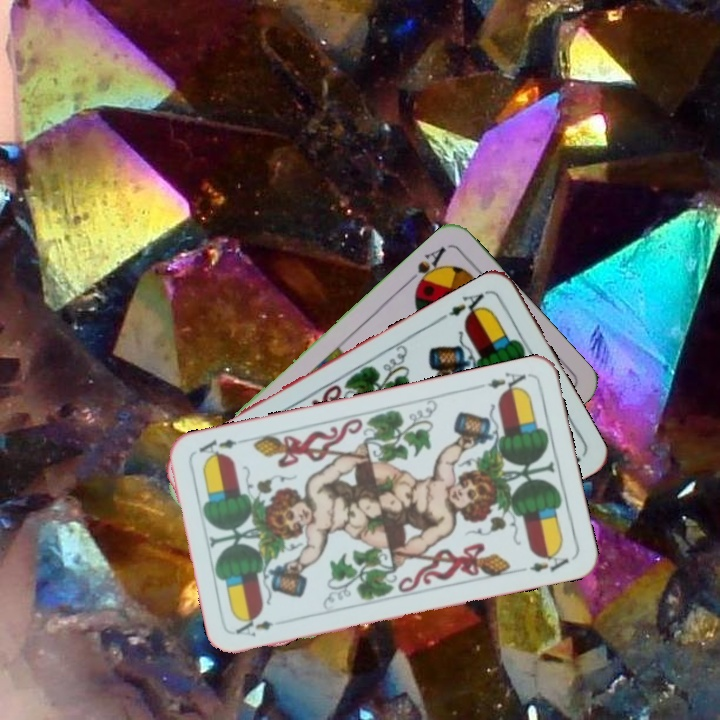EA: (437, 286, 492, 324), (473, 368, 532, 397), (232, 614, 276, 640)
SA: (402, 242, 449, 294)
